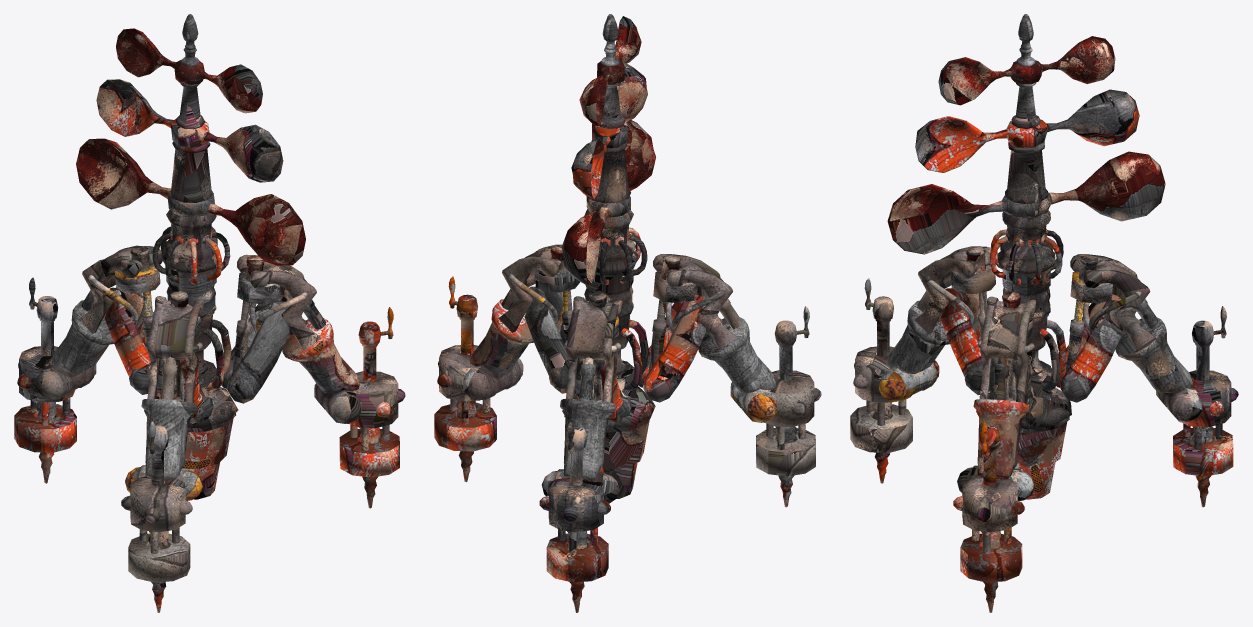
File: WINDSPOT.DAE
3 renders of one model, left to right at view 1: azimuth 30°, elevation 25°; view 2: azimuth 150°, elevation 25°; view 3: azimuth 270°, elevation 25°, orthographic.
Parts seen in each view (by area): view 1: nog; view 2: nog; view 3: nog.
Part boxes in pixels (<box>): nog: <box>14,14,405,612</box>; nog: <box>434,14,821,612</box>; nog: <box>850,14,1238,612</box>.
Bounding box in the file's own units: 4.23 × 4.38 × 6.47.
1 material, 1 textured.
